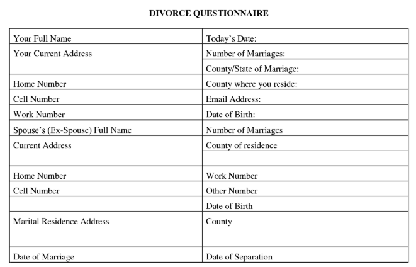textbox: (200, 208, 410, 249), (8, 209, 205, 249), (8, 41, 205, 76), (200, 27, 410, 47), (200, 56, 410, 76), (200, 71, 410, 91), (200, 86, 410, 106), (200, 117, 410, 137), (200, 163, 410, 183), (200, 178, 410, 198), (200, 244, 410, 264), (200, 41, 410, 60), (200, 102, 410, 121), (200, 133, 410, 152), (200, 194, 410, 213), (8, 27, 204, 46), (8, 72, 204, 91), (8, 87, 203, 106), (8, 118, 203, 137), (8, 164, 203, 183), (8, 179, 203, 198), (8, 245, 203, 264), (8, 103, 203, 121)
